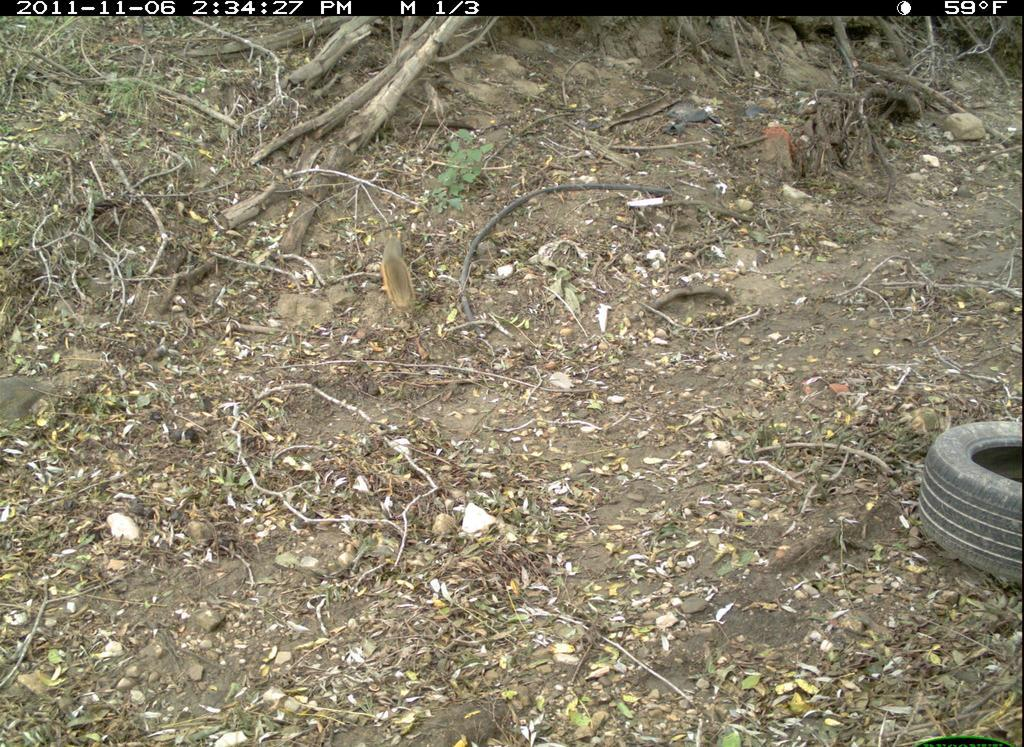squirrel: (377, 226, 420, 319)
